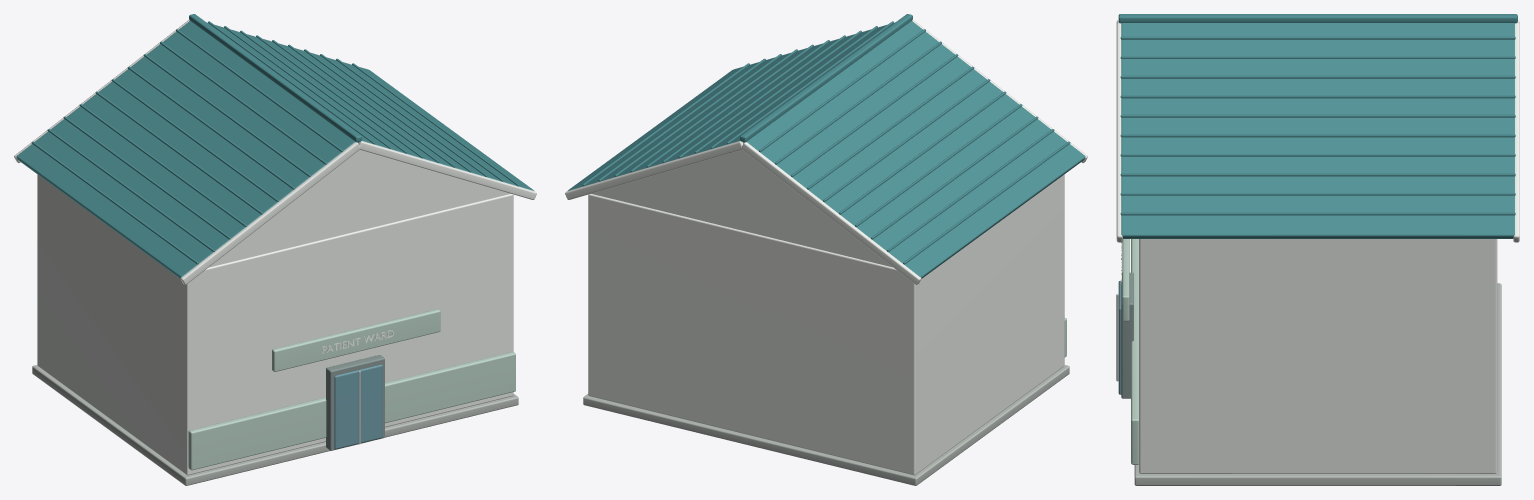
Rendered from ward.glb.
3 renders of one model, left to right at view 1: azimuth 30°, elevation 25°; view 2: azimuth 150°, elevation 25°; view 3: azimuth 270°, elevation 25°, orthographic. The views are drawn at different scales.
Parts seen in each view (by area): view 1: Building shell, Pitched roof plane, Triangular gable walls, Facade accent, Pitched roof plane.001, Foundation, Department sign, Entrance double glass doors, White gable fascia, Roof ridge cap, White gable fascia.002, Entrance door frame (+17 smaller); view 2: Building shell, Pitched roof plane, Triangular gable walls, Pitched roof plane.001, Foundation, White gable fascia.001, Roof ridge cap, White gable fascia.003, Roof tile course.009, Roof tile course.007, Roof tile course, Roof tile course.002 (+13 smaller); view 3: Building shell, Pitched roof plane.001, Foundation, Roof ridge cap, Facade accent, Roof tile course.010, Roof tile course.012, Roof tile course.013, Roof tile course.014, Roof tile course.015, Roof tile course.017, Roof tile course.019 (+8 smaller).
Part boxes in pixels (x1,y1,x2,y2): Building shell: (37, 174, 513, 475); Pitched roof plane: (16, 21, 357, 278); Triangular gable walls: (209, 150, 510, 267); Facade accent: (188, 351, 515, 470); Pitched roof plane.001: (207, 22, 533, 190); Foundation: (32, 365, 518, 485); Department sign: (272, 309, 440, 371); Entrance double glass doors: (334, 364, 382, 448); White gable fascia: (180, 142, 359, 284); Roof ridge cap: (189, 14, 361, 142); White gable fascia.002: (358, 141, 536, 199); Entrance door frame: (326, 355, 384, 450); Building shell: (588, 174, 1064, 475); Pitched roof plane: (744, 21, 1085, 278); Triangular gable walls: (591, 150, 892, 267); Pitched roof plane.001: (568, 22, 894, 190); Foundation: (583, 365, 1069, 485); White gable fascia.001: (742, 142, 921, 284); Roof ridge cap: (740, 14, 912, 142); White gable fascia.003: (565, 141, 743, 199); Roof tile course.009: (903, 141, 1070, 264); Roof tile course.007: (871, 116, 1038, 239); Roof tile course: (759, 29, 925, 152); Roof tile course.002: (791, 54, 958, 176); Building shell: (1139, 239, 1497, 473); Pitched roof plane.001: (1121, 23, 1514, 238); Foundation: (1134, 283, 1501, 485); Roof ridge cap: (1118, 14, 1517, 23); Facade accent: (1131, 239, 1138, 464); Roof tile course.010: (1120, 36, 1515, 39); Roof tile course.012: (1120, 75, 1515, 78); Roof tile course.013: (1120, 95, 1515, 98); Roof tile course.014: (1120, 114, 1515, 117); Roof tile course.015: (1120, 134, 1515, 137); Roof tile course.017: (1120, 173, 1515, 176); Roof tile course.019: (1120, 212, 1515, 215).
Size of the model in its own units: 10.63 by 9.01 by 8.79.
